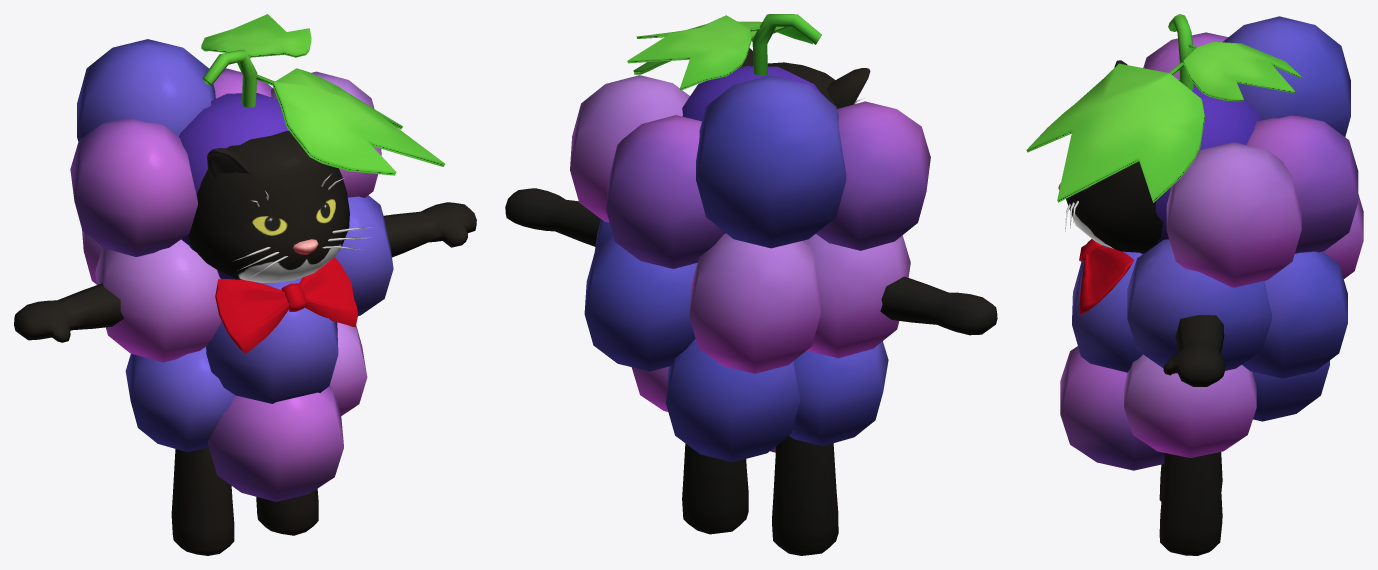
File: Grapescat.fbx
3 renders of one model, left to right at view 1: azimuth 30°, elevation 25°; view 2: azimuth 150°, elevation 25°; view 3: azimuth 270°, elevation 25°, orthographic. The views are drawn at different scales.
Parts seen in each view (by area): view 1: grapes_cat; view 2: grapes_cat; view 3: grapes_cat.
Boxes of the visible parts, left/top/right/bottom form: grapes_cat: left=14, top=14, right=476, bottom=555; grapes_cat: left=505, top=14, right=997, bottom=555; grapes_cat: left=1026, top=14, right=1363, bottom=555.
Size of the model in its own units: 236 by 247 by 150.
1 material, 1 textured.
